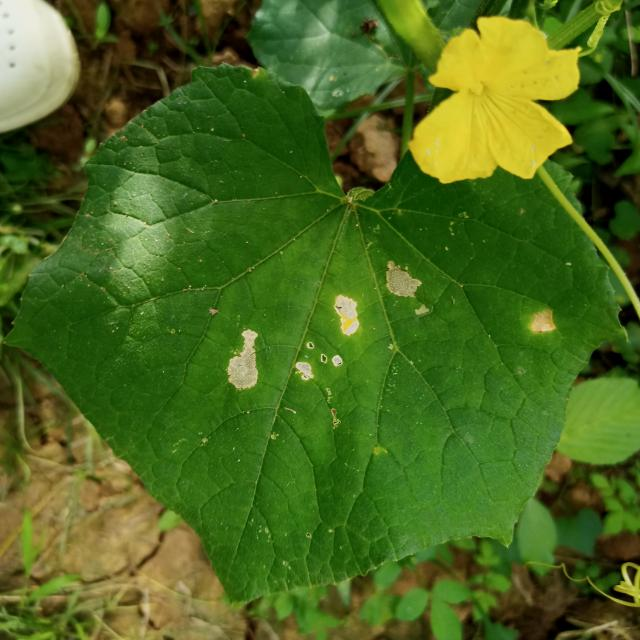disease_cucumber: (224, 258, 430, 393), (528, 309, 557, 337)
